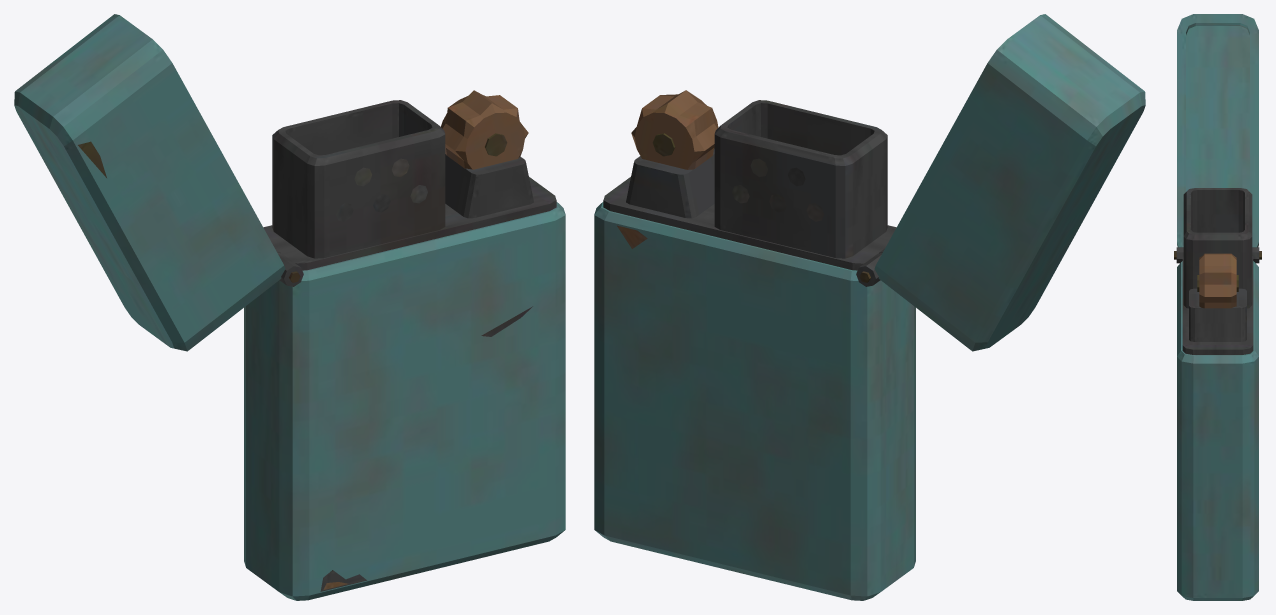
Rendered from G13_lighter.glb.
The picture shows the model from 3 angles, left to right: view 1: azimuth 30°, elevation 25°; view 2: azimuth 150°, elevation 25°; view 3: azimuth 270°, elevation 25°; orthographic projection. The views are drawn at different scales.
Parts seen in each view (by area): view 1: Enamel case; view 2: Enamel case; view 3: Enamel case.
Boxes of the visible parts, x1,y1,x2,y2 form: Enamel case: (14,14,565,600); Enamel case: (594,14,1145,600); Enamel case: (1174,14,1261,600).
Bounding box in the file's own units: 0.0544 × 0.06 × 0.0108.
5 materials, 5 textured.
